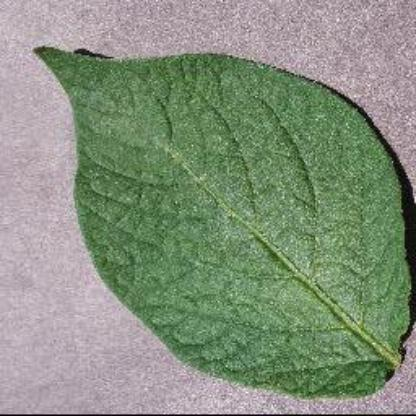Healthy-plant: (32, 44, 412, 400)
